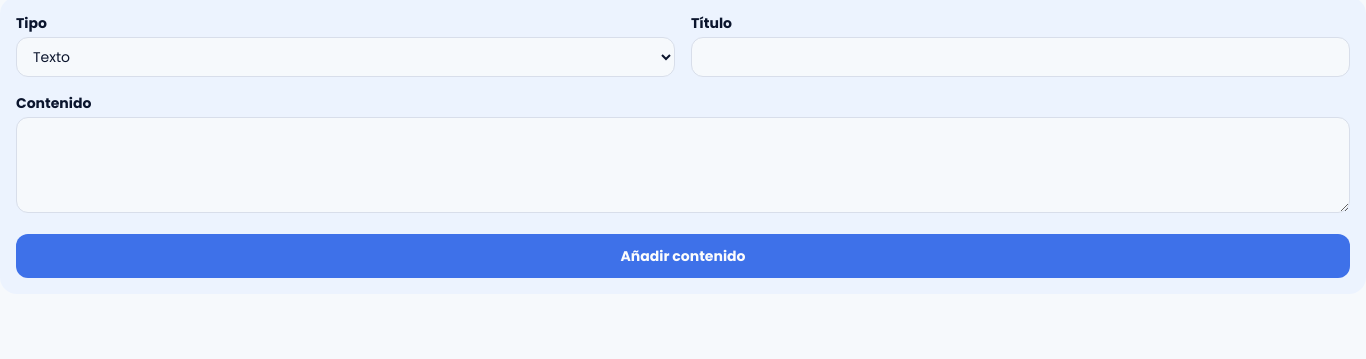
Test case: formulario de contenido de grupo › muestra solamente los campos de link
The image size is (1366, 359).
Select "Enlace" in the dropdown labelled "Tipo": (346, 57) left=16, top=37, right=675, bottom=77
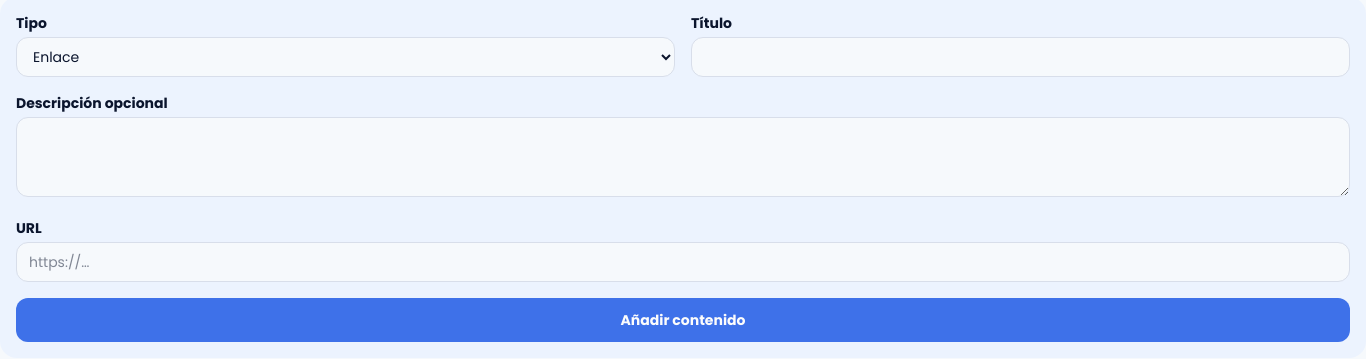
Expected: the text box labelled "Descripción opcional" is shown, left=16, top=117, right=1350, bottom=197
Expected: the field labelled "URL" is shown, left=16, top=242, right=1350, bottom=282
